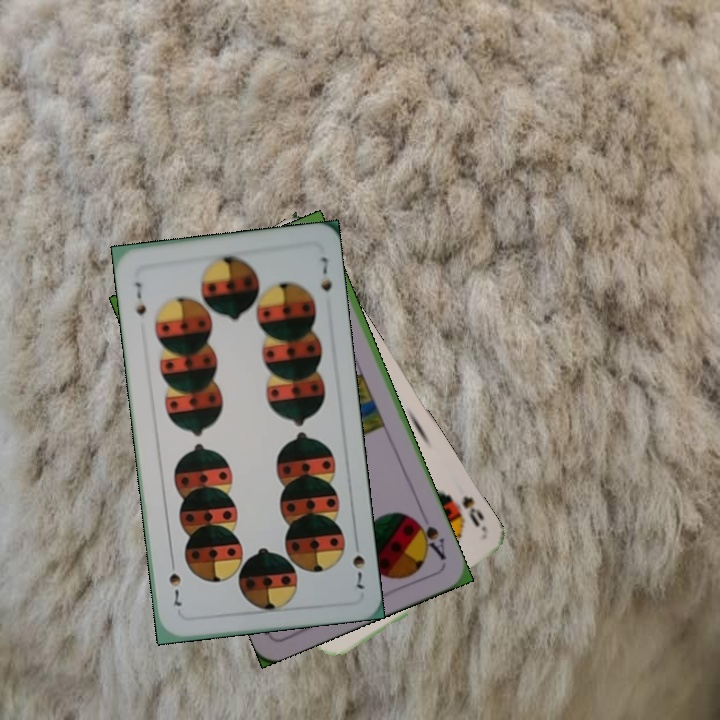S7: (348, 535, 368, 592), (131, 278, 149, 322)
SA: (409, 513, 449, 563)
SO: (458, 491, 490, 535)
